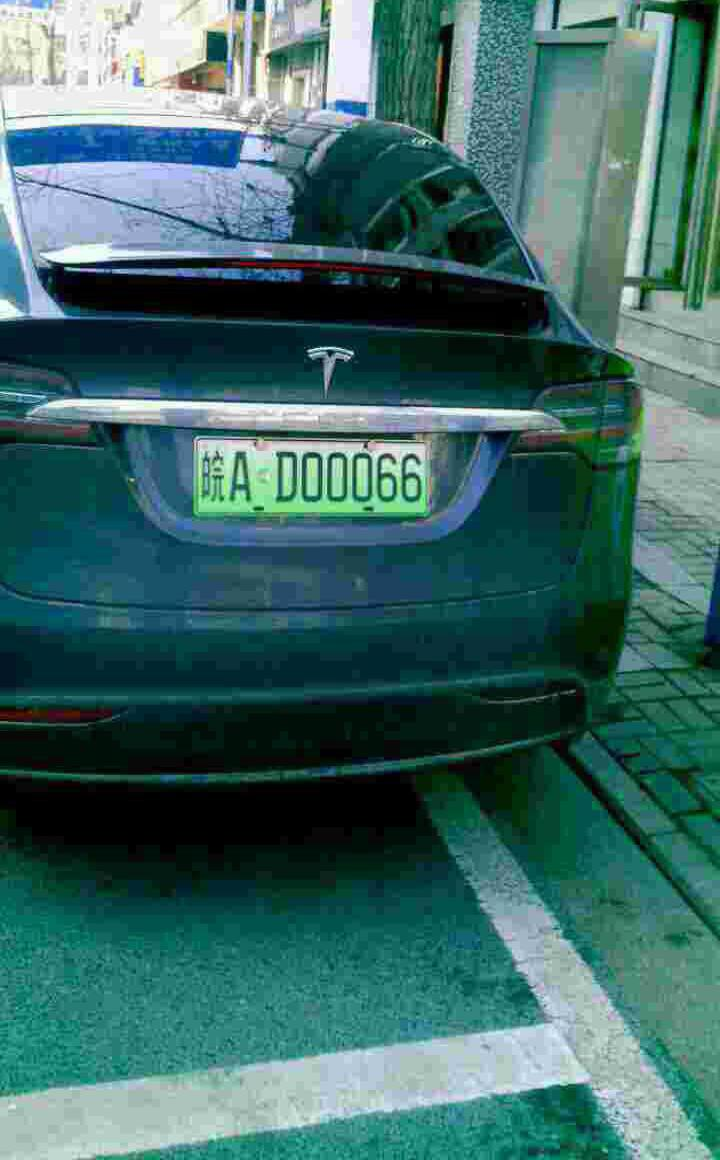car: (178, 434, 445, 520)
